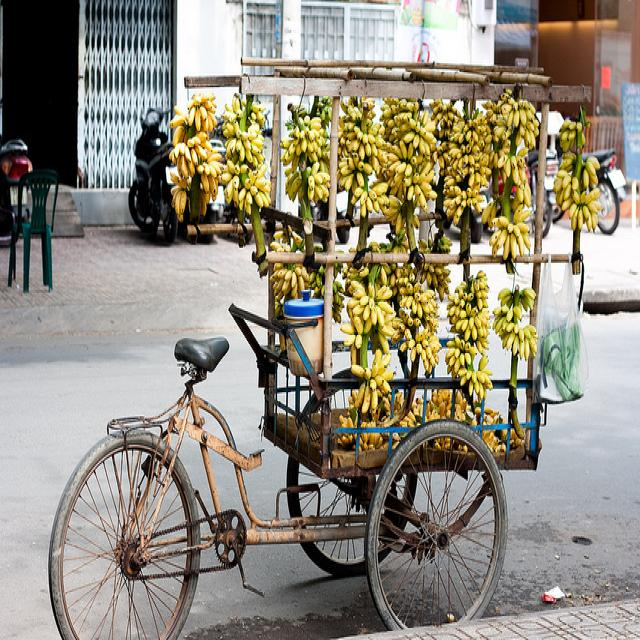motor: (127, 108, 179, 242), (479, 151, 538, 209), (1, 139, 32, 236)
